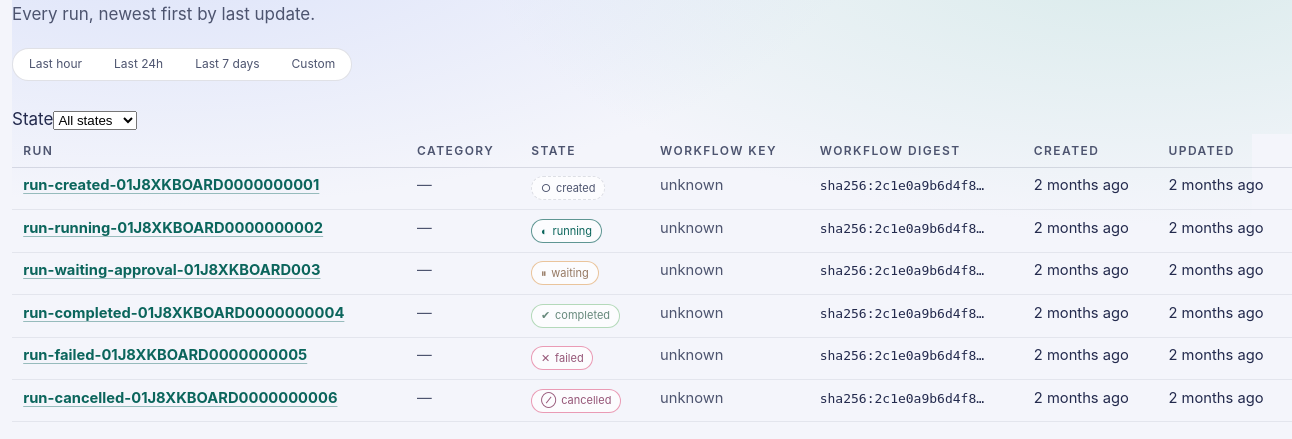
Scenario: RunsList time-range filter (server-side, issue #23) › never filters client-side: a change in range always produces a new request, not a re-slice of the existing items
Click the button "Last 24h": {"x": 139, "y": 64} [98, 49, 179, 80]
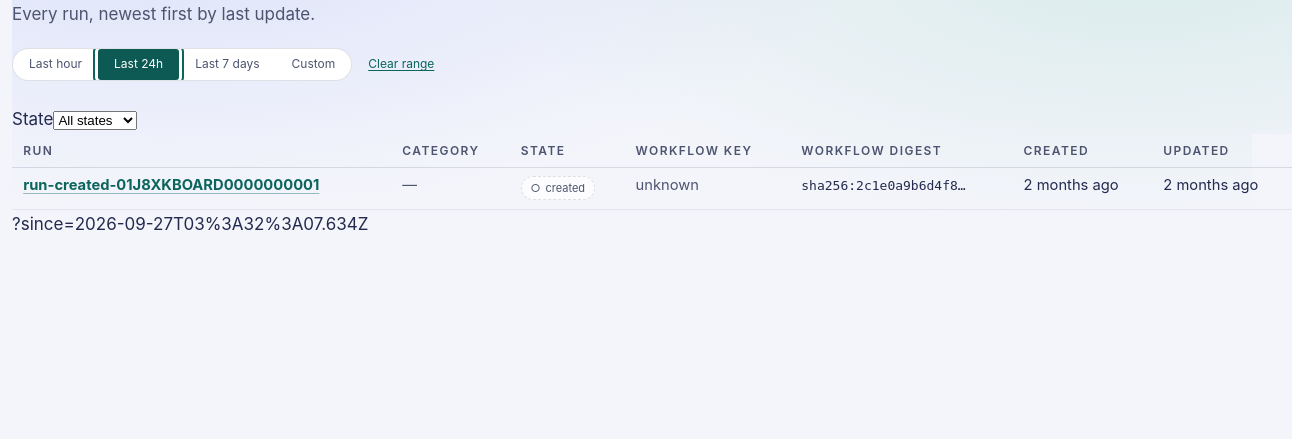
Expected: the link "run-created-01J8XKBOARD0000000001" is shown, [23, 176, 319, 194]
Result: the link "run-running-01J8XKBOARD0000000002" is gone
